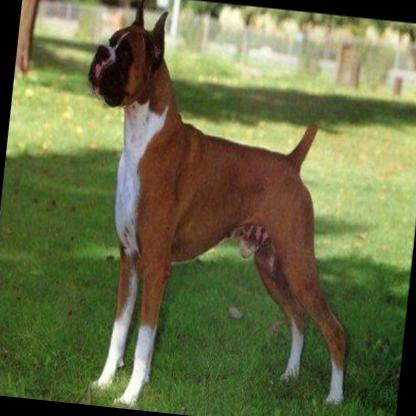boxer: (48, 0, 382, 416)
